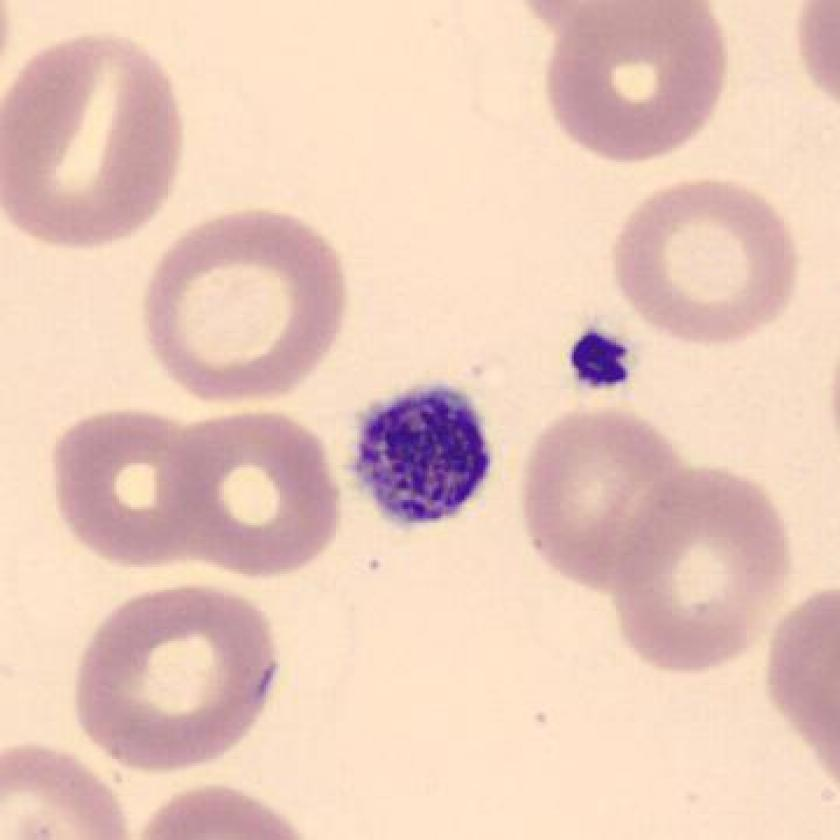platelets: (349, 378, 498, 531), (561, 320, 647, 404)
